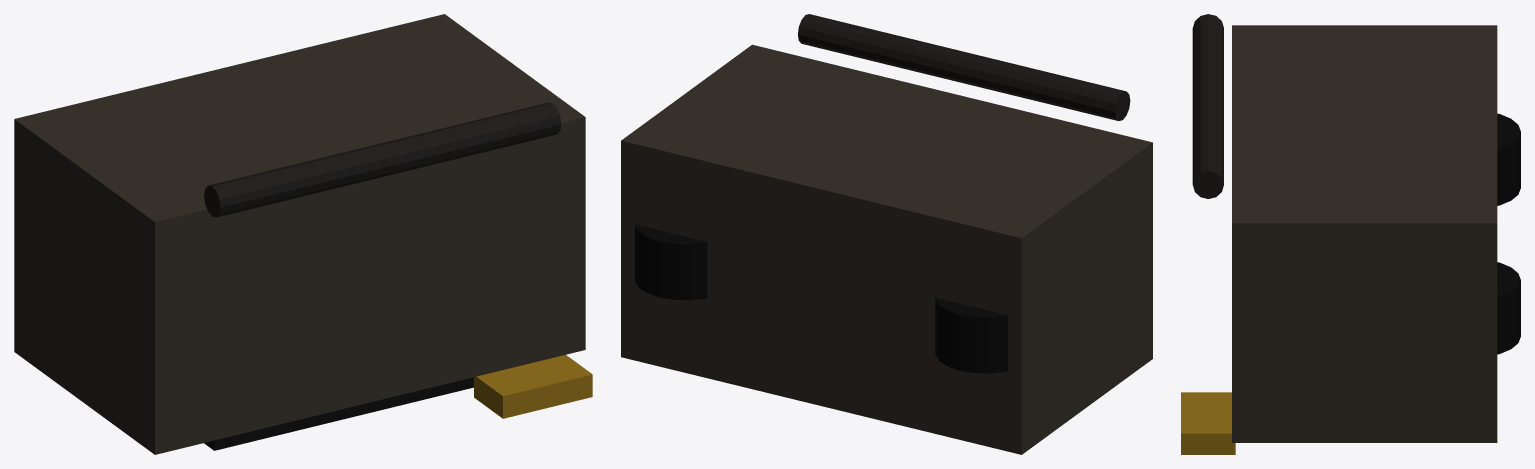
File: shelter_generator_detailed.obj
3 renders of one model, left to right at view 1: azimuth 30°, elevation 25°; view 2: azimuth 150°, elevation 25°; view 3: azimuth 270°, elevation 25°, orthographic. The views are drawn at different scales.
Visible parts, largest first — view 1: shelter_generator_detailed; view 2: shelter_generator_detailed; view 3: shelter_generator_detailed.
Part boxes in pixels (bbox=[...]): shelter_generator_detailed: bbox=[14, 14, 592, 454]; shelter_generator_detailed: bbox=[621, 14, 1152, 454]; shelter_generator_detailed: bbox=[1181, 14, 1520, 454].
Size of the model in its own units: 1.2 by 0.77 by 0.87.
